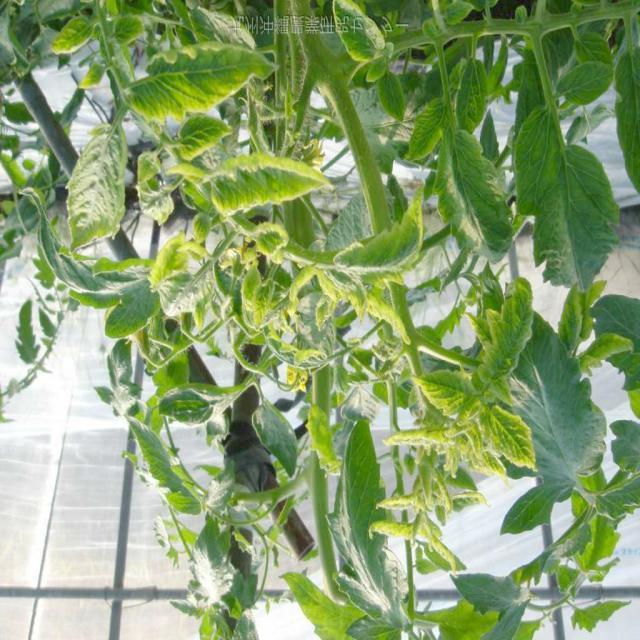Tomato healthy leaf: (499, 308, 610, 544), (323, 417, 414, 640), (445, 568, 534, 618)
Tomato yellow virus leaf: (510, 108, 622, 298), (406, 95, 516, 271), (127, 41, 280, 122), (61, 112, 131, 264), (341, 191, 431, 293), (198, 154, 340, 218), (478, 279, 538, 391), (317, 0, 394, 69), (482, 398, 540, 478), (418, 358, 478, 421), (147, 227, 195, 295), (556, 59, 618, 107), (242, 222, 292, 258)
